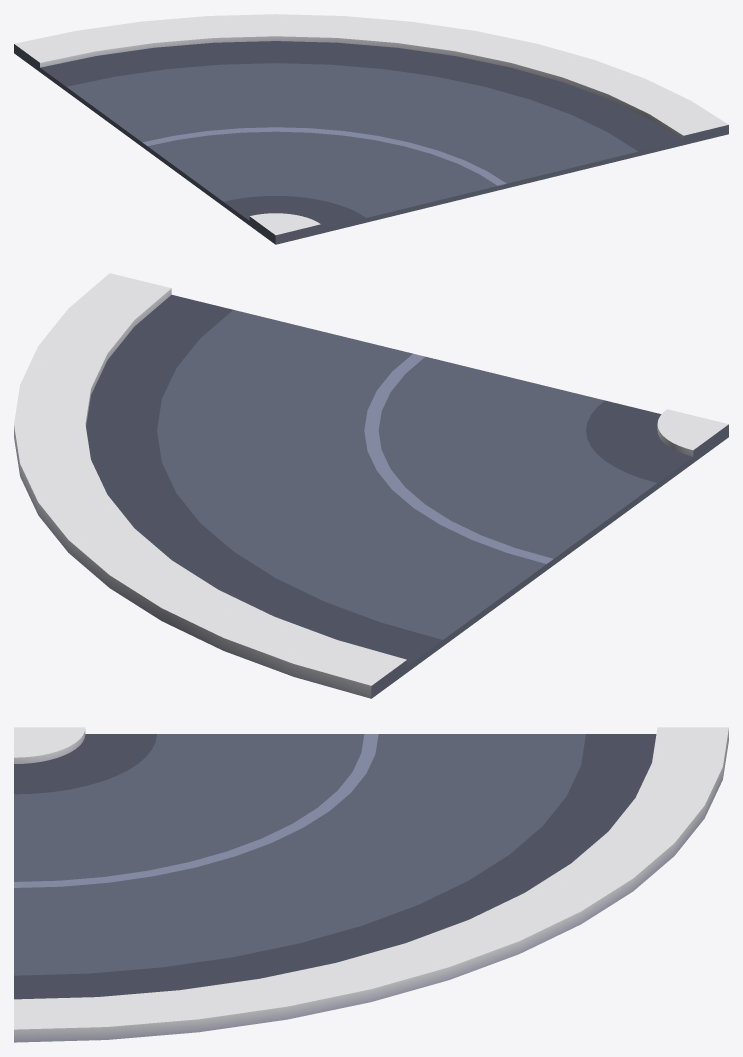
Rendered from road-bend.glb.
3 renders of one model, top to bottom at view 1: azimuth 30°, elevation 25°; view 2: azimuth 150°, elevation 25°; view 3: azimuth 270°, elevation 25°, orthographic. The views are drawn at different scales.
Visible parts, largest first — view 1: road-bend; view 2: road-bend; view 3: road-bend.
Part boxes in pixels (x1=…): road-bend: x1=14, y1=14, x2=728, y2=244; road-bend: x1=14, y1=273, x2=728, y2=698; road-bend: x1=14, y1=727, x2=728, y2=1042.
Size of the model in its own units: 1 by 0.02 by 1.
Materials: 1 (1 with a texture image).
